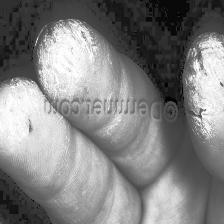Non-Cancerous Skin Condition: (35, 20, 97, 96), (184, 34, 224, 142)
